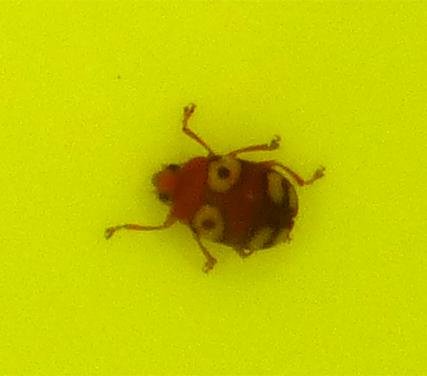Coleoptera: (100, 100, 327, 276)
